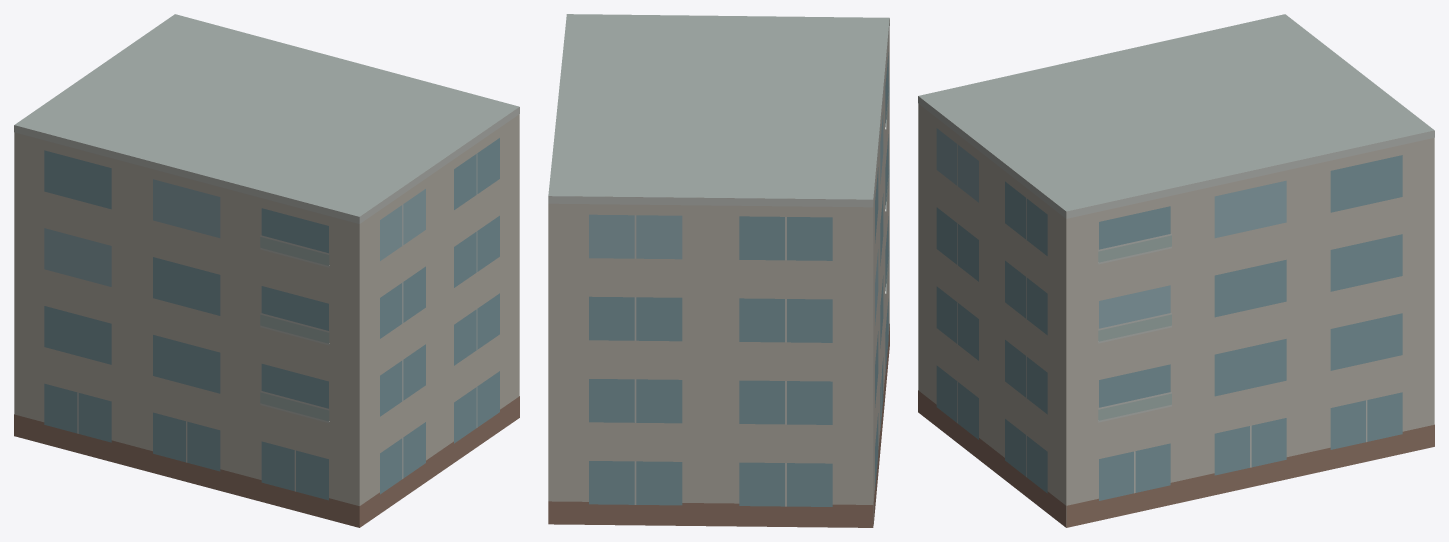
File: survey-upis-32885824.glb
The picture shows the model from 3 angles, left to right: view 1: azimuth 30°, elevation 25°; view 2: azimuth 150°, elevation 25°; view 3: azimuth 270°, elevation 25°; orthographic projection. The views are drawn at different scales.
Visible parts, largest first — view 1: survey-upis-32885824.tmp; view 2: survey-upis-32885824.tmp; view 3: survey-upis-32885824.tmp.
Part boxes in pixels (x1,y1,x2,y2): survey-upis-32885824.tmp: (14, 14, 519, 527); survey-upis-32885824.tmp: (548, 14, 889, 527); survey-upis-32885824.tmp: (918, 14, 1434, 527).
Bounding box in the file's own units: 14.07 × 10.5 × 15.55.
